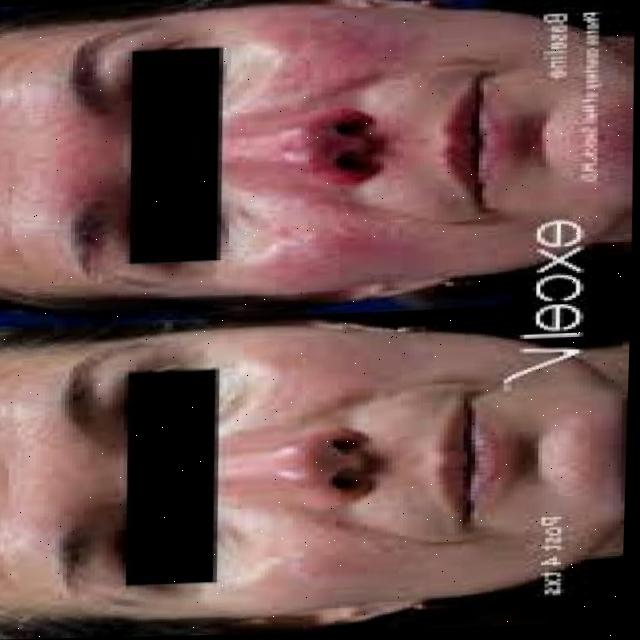Rosacea: (246, 19, 422, 285)
